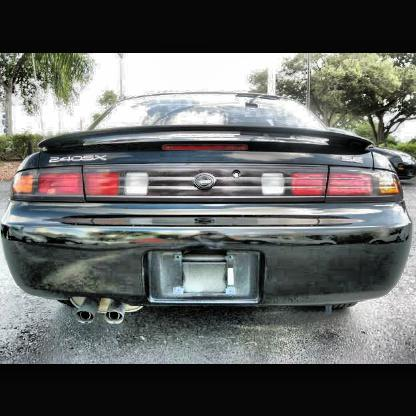Nissan 240SX Coupe 1998: (2, 95, 413, 326)
